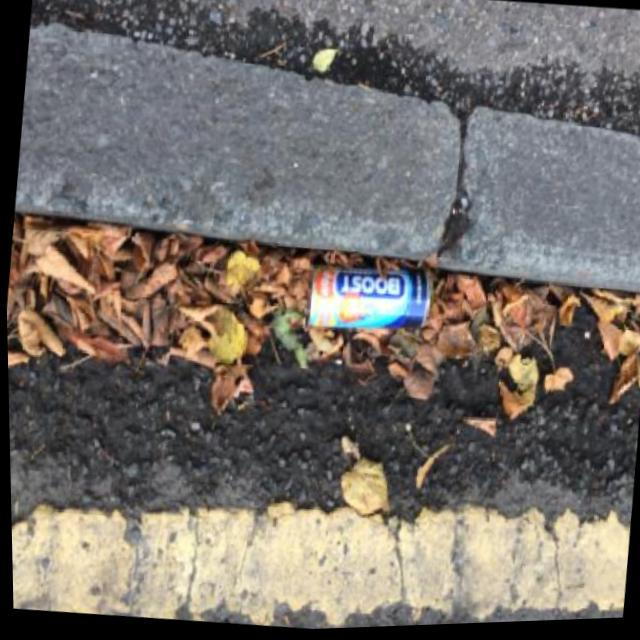metal: (304, 255, 434, 339)
